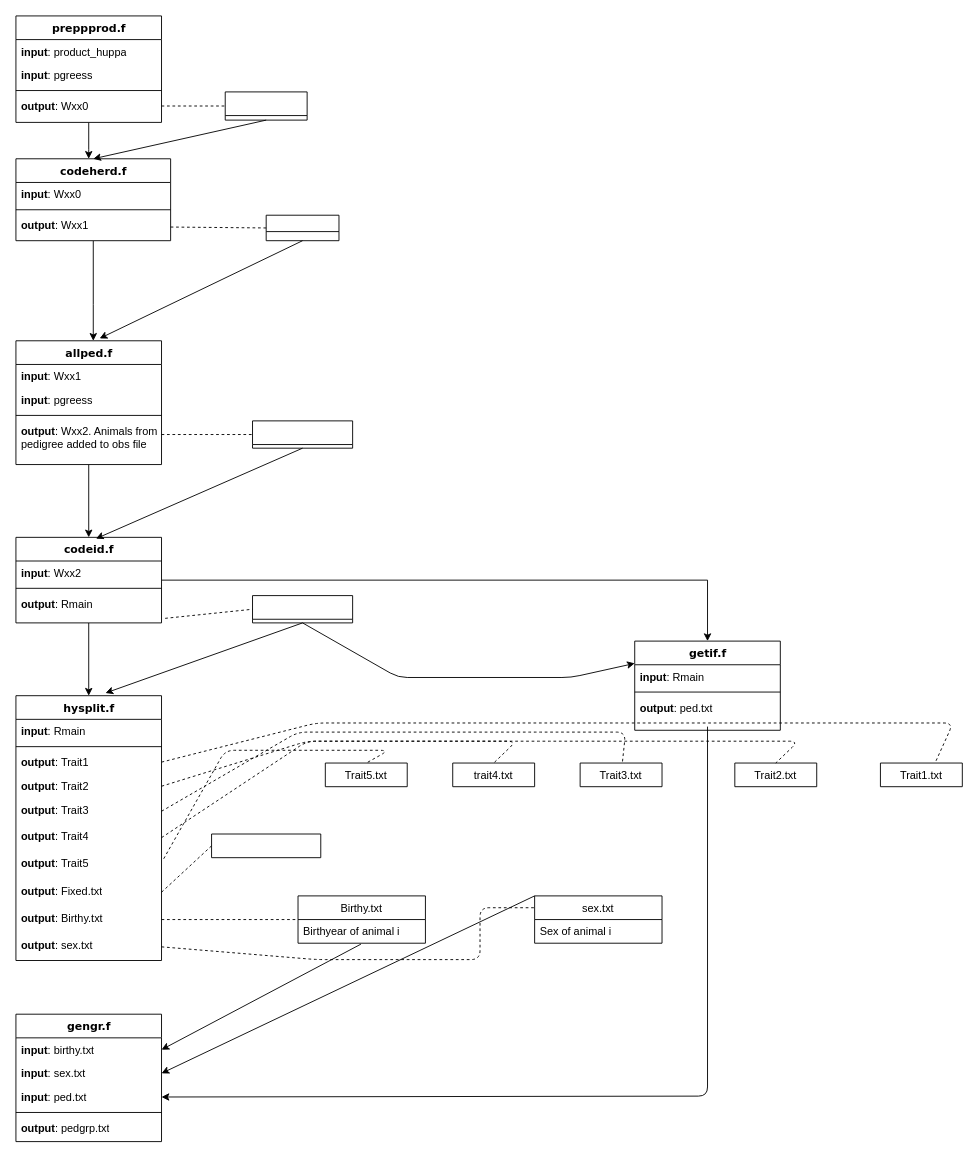
The diagram is 978 pixels wide and 1158 high, and some of its shapes have lost their labels. Here are the shapes that lost their labels. From the top down, the centre of each, then its label:
At (x=265, y=105): "Wxx0 - n x 46".
At (x=302, y=227): "Wxx1 n x 40".
At (x=302, y=434): "Wxx2 - n x 39".
At (x=302, y=609): "Rmain- n x 40".
At (x=266, y=845): "Fixed.txt. n x 31".
